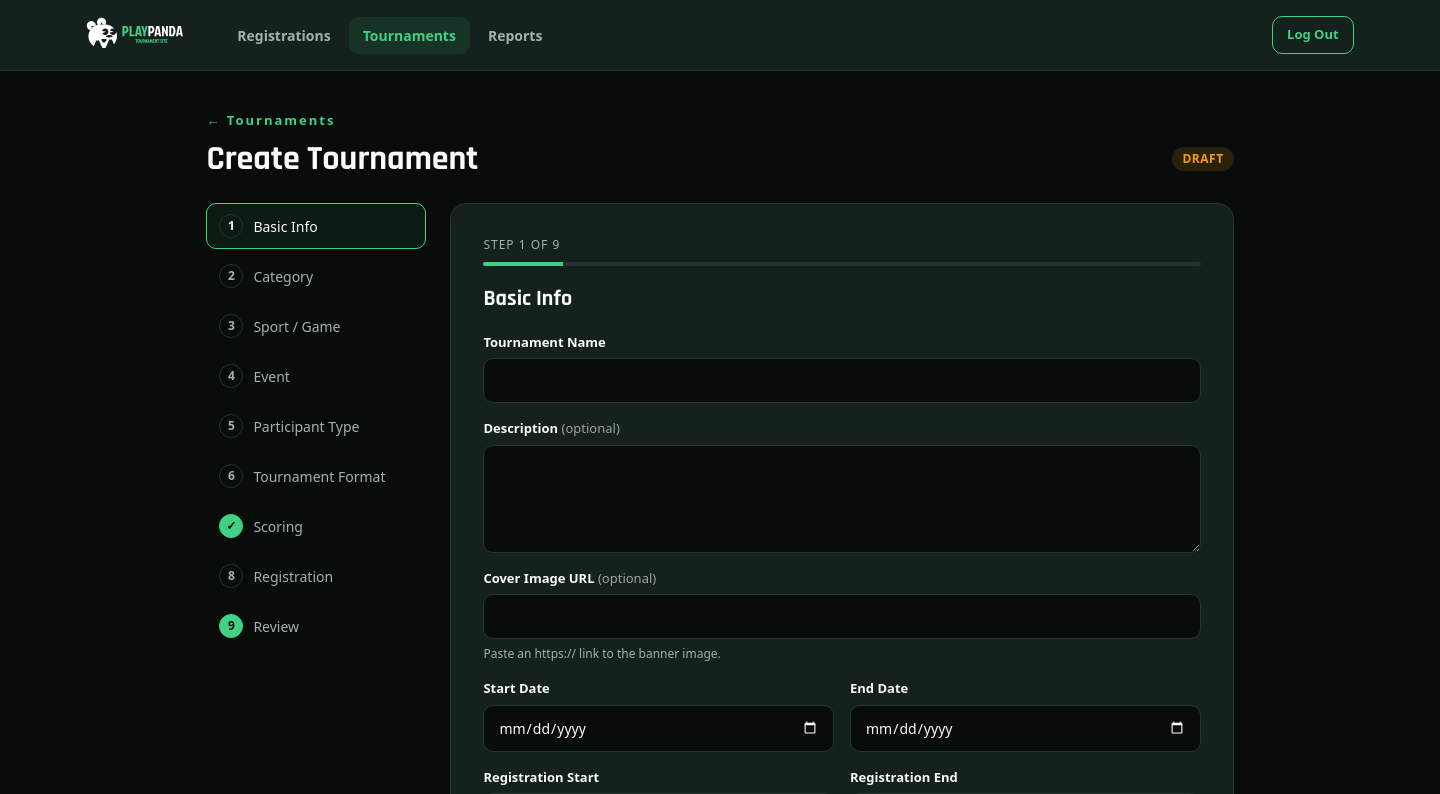
Scenario: TournamentWizardPage › choosing a sport fills in its scoring defaults
Click the button "2 Category" at [316, 276], box [206,253,426,299]
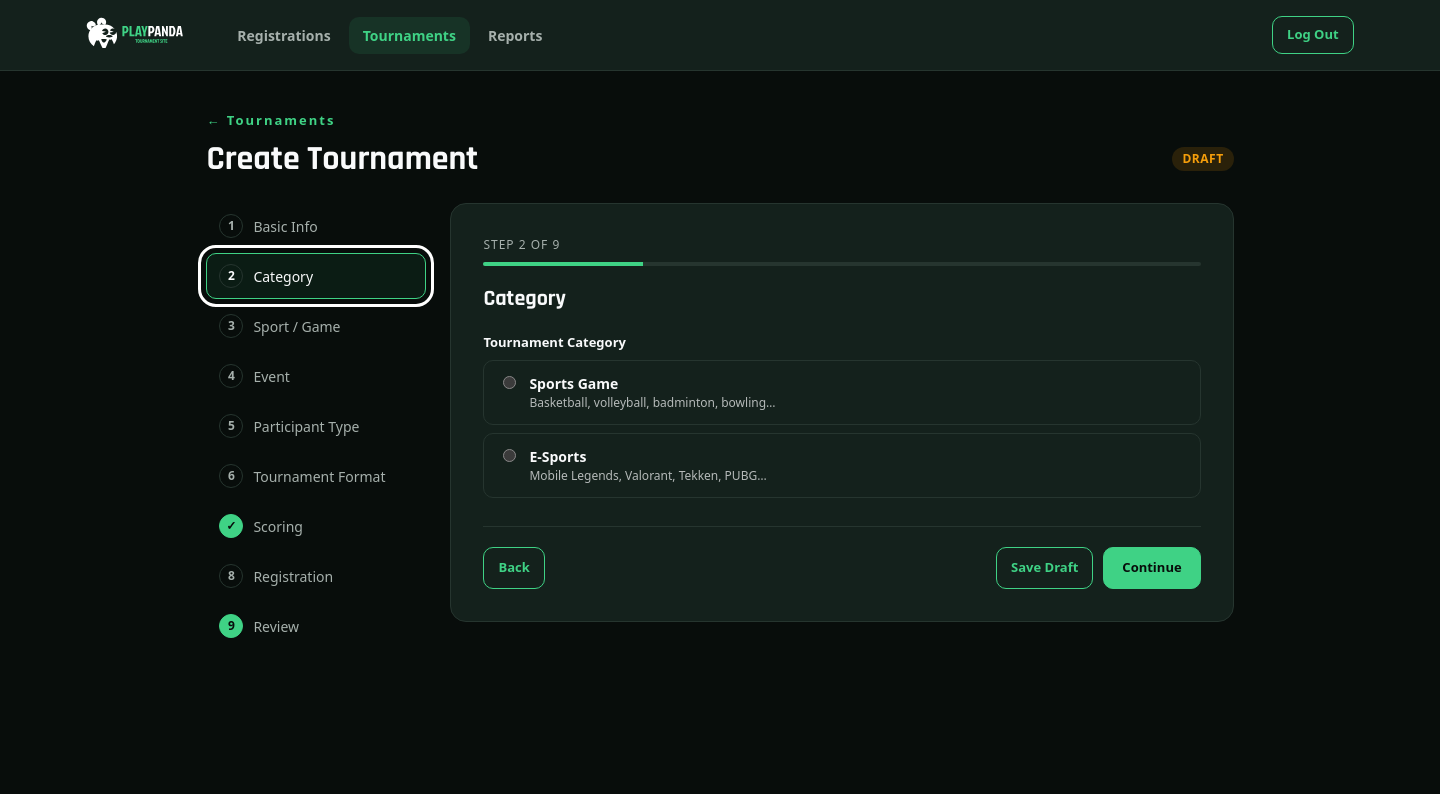
Click the radio button labelled "Sports Game Basketball, volleyball, badminton, bowling…" at [510, 383], box [503,376,516,389]
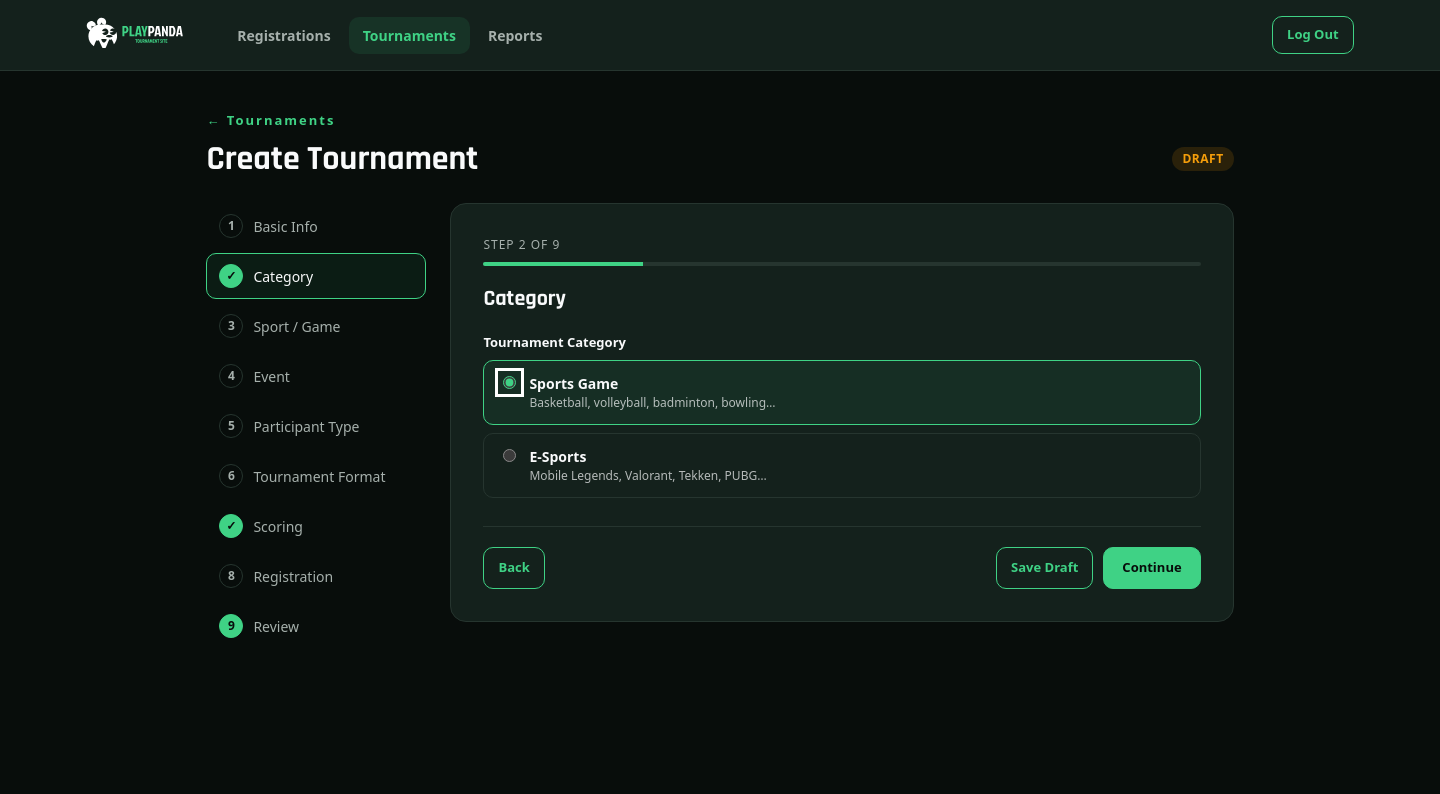
Click the button "3 Sport / Game" at [316, 326], box [206,303,426,349]
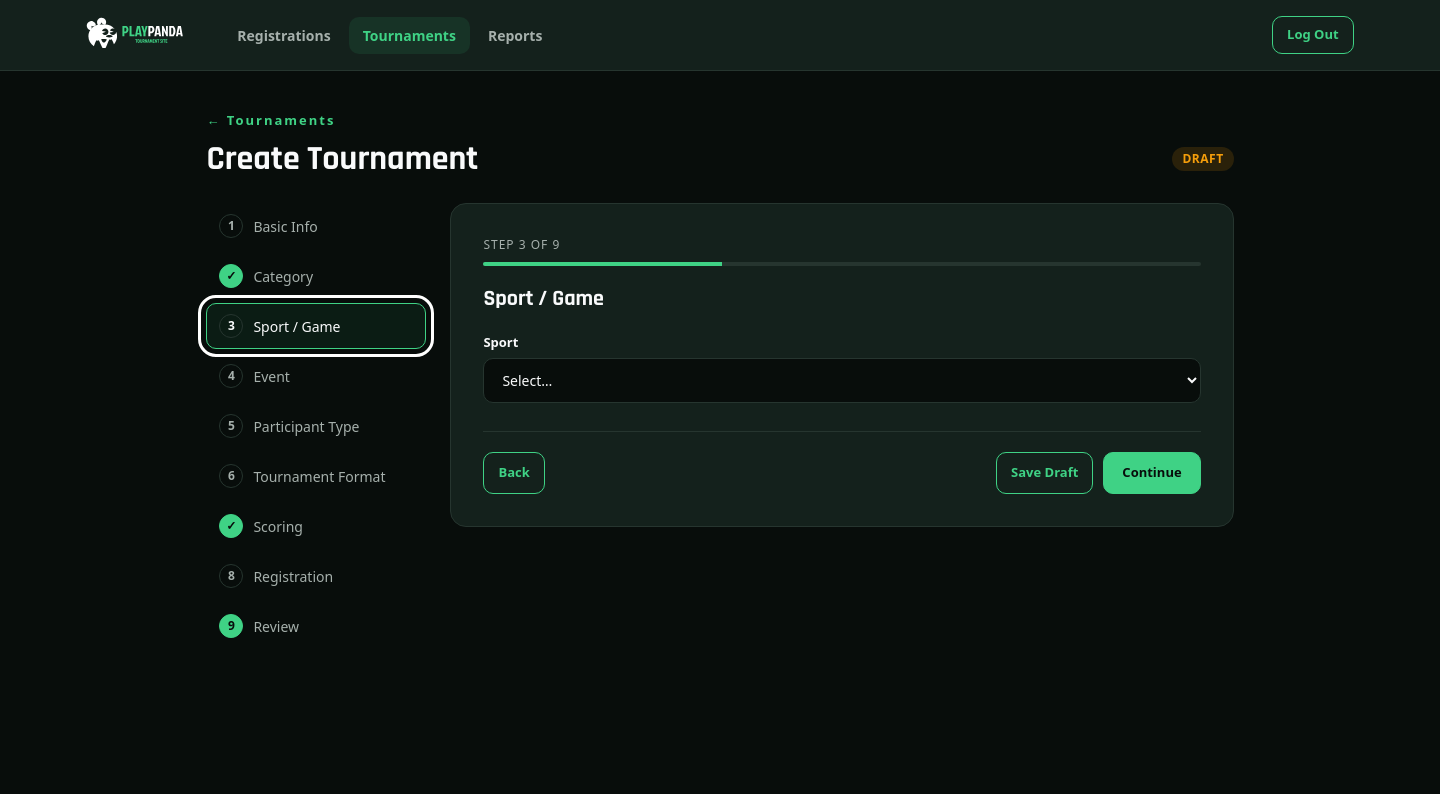
Select "Basketball" in the dropdown labelled "Sport" at [842, 381], box [483,358,1201,403]
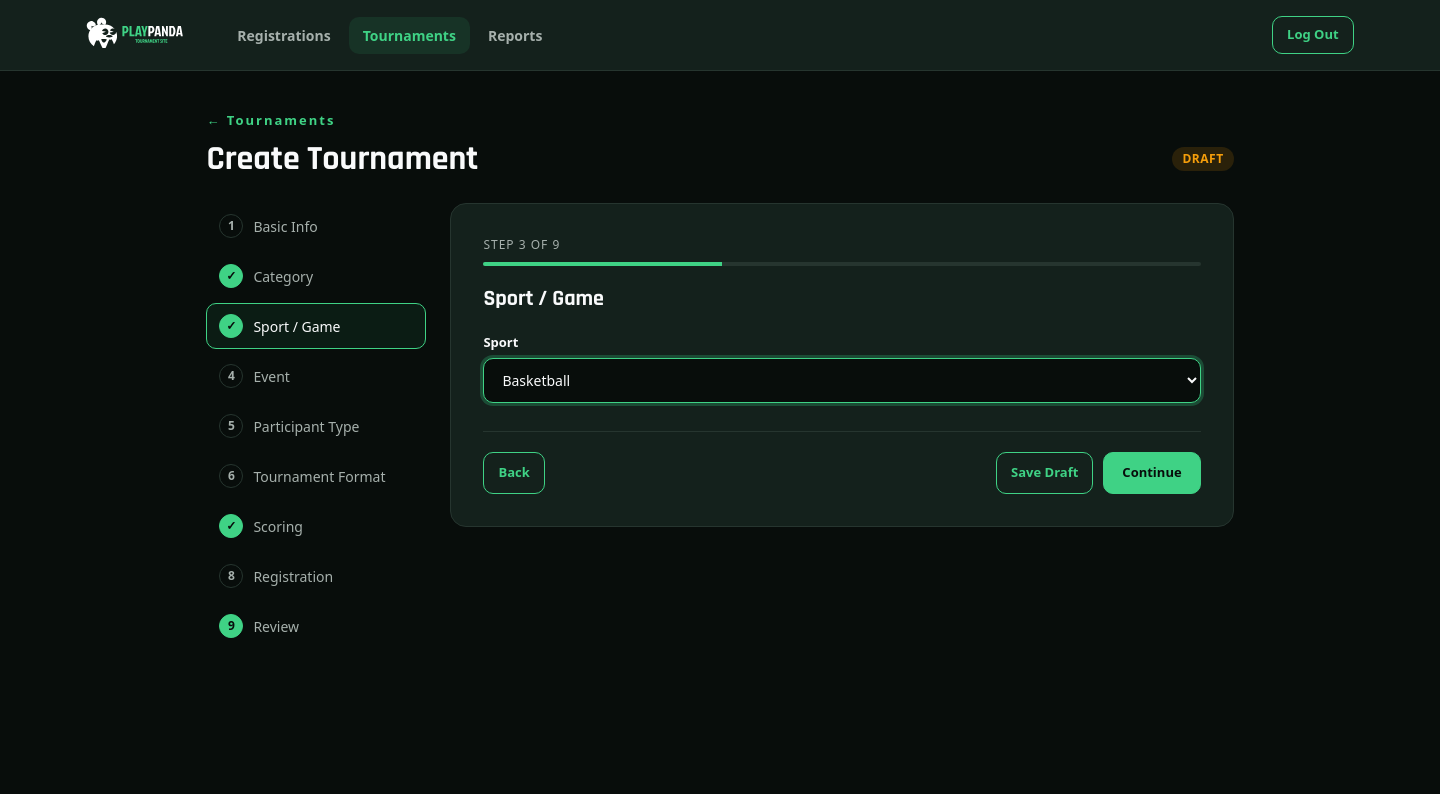
Click the button "✓ Scoring" at [316, 526], box [206,503,426,549]
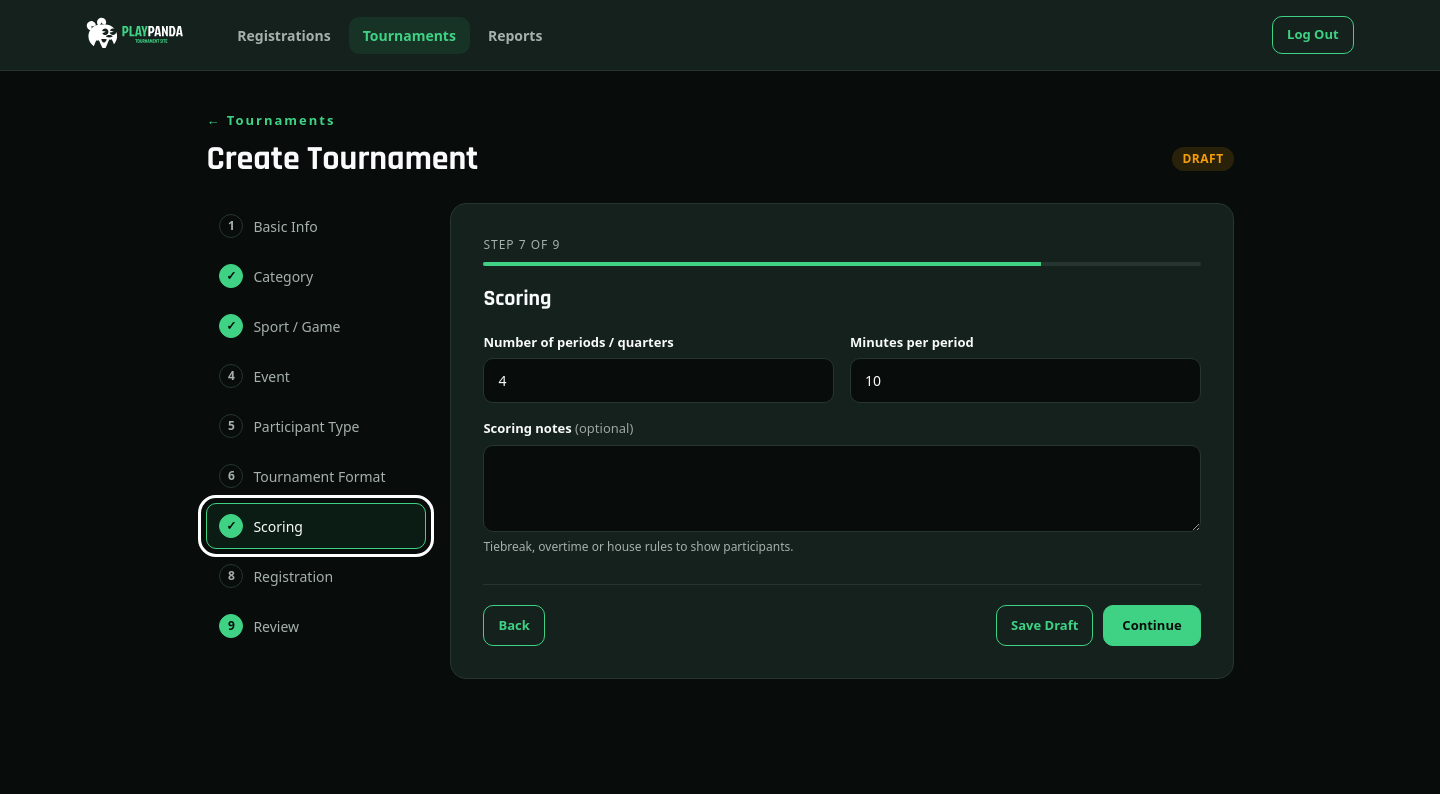
expect the number field labelled "Number of periods / quarters" holds "4": met, box [483,358,834,403]
expect the number field labelled "Minutes per period" holds "10": met, box [850,358,1201,403]
